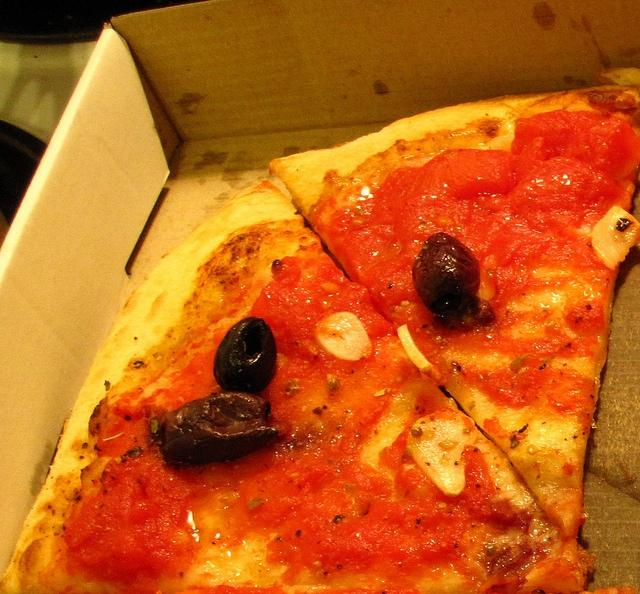onion: (406, 409, 476, 498), (360, 374, 423, 471), (592, 206, 640, 271), (314, 311, 372, 361), (397, 324, 434, 373)
